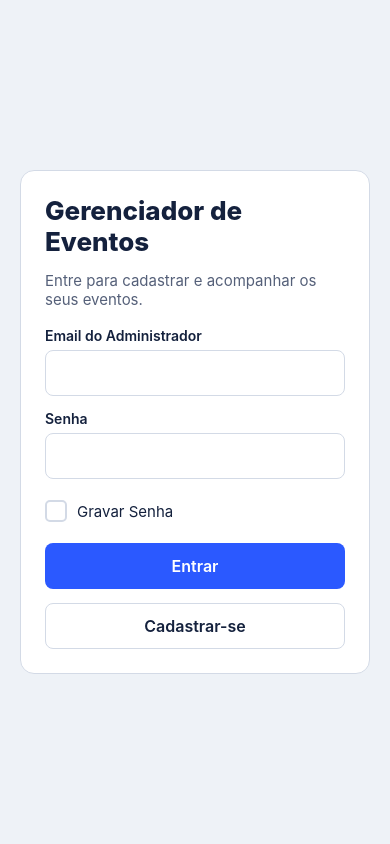
Test: fluxo: Cadastrar-se → cadastro com sucesso → Login com mensagem e email preenchido
The image size is (390, 844).
Click the button "Cadastrar-se" at (195, 626), box [45,603,345,649]
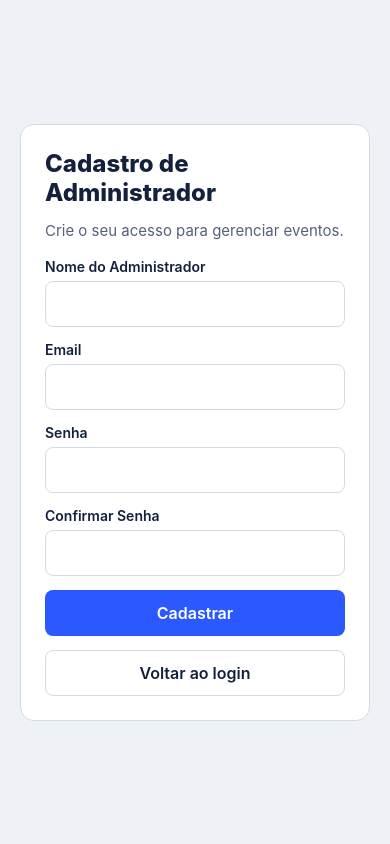
Check: the heading "Cadastro de Administrador" is shown, box [45,148,216,206]
Type "Joana Souza" into the field named "Nome do Administrador" at (195, 304), box [45,280,345,326]
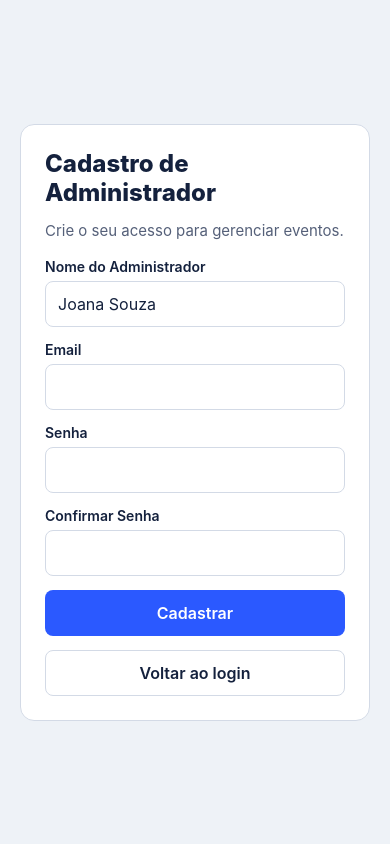
Type "joana@email.com" into the field named "Email" at (195, 386), box [45,364,345,410]
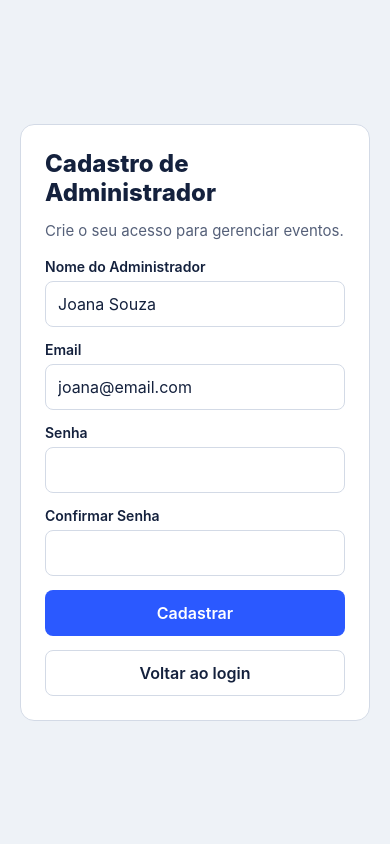
Type "segredo1" into the password field named "Senha" at (195, 470), box [45,446,345,492]
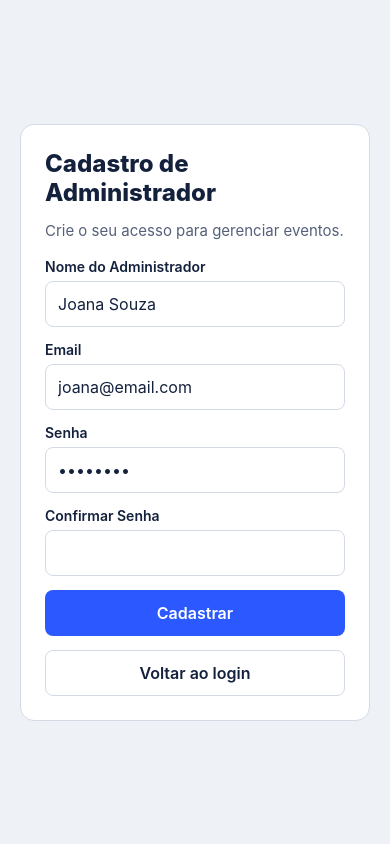
Type "segredo1" into the password field named "Confirmar Senha" at (195, 552), box [45,530,345,576]
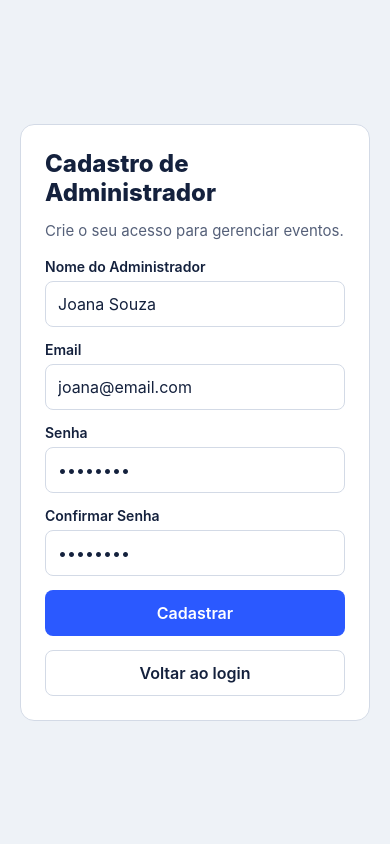
Click the button "Cadastrar" at (195, 612), box [45,590,345,636]
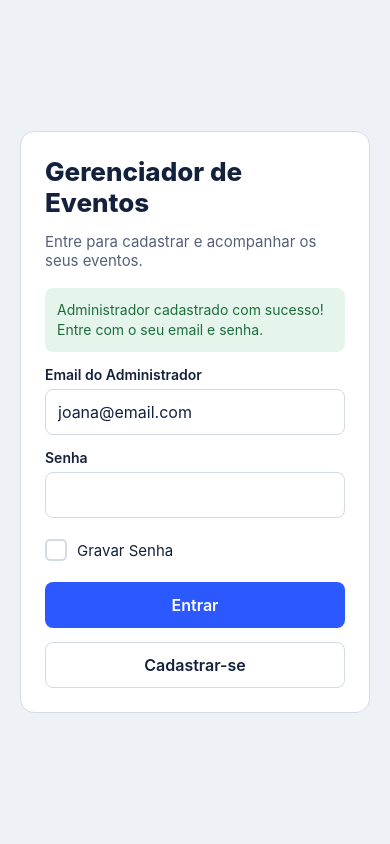
Check: the text "Administrador cadastrado com sucesso! Entre com o seu email e senha." is shown, box [45,288,345,352]
Check: the field named "Email do Administrador" holds "joana@email.com", box [45,389,345,435]
